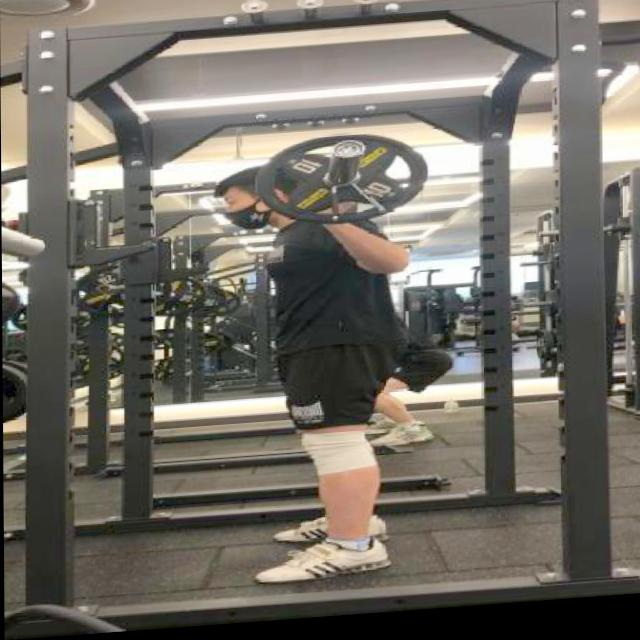barbell: (251, 134, 431, 239)
